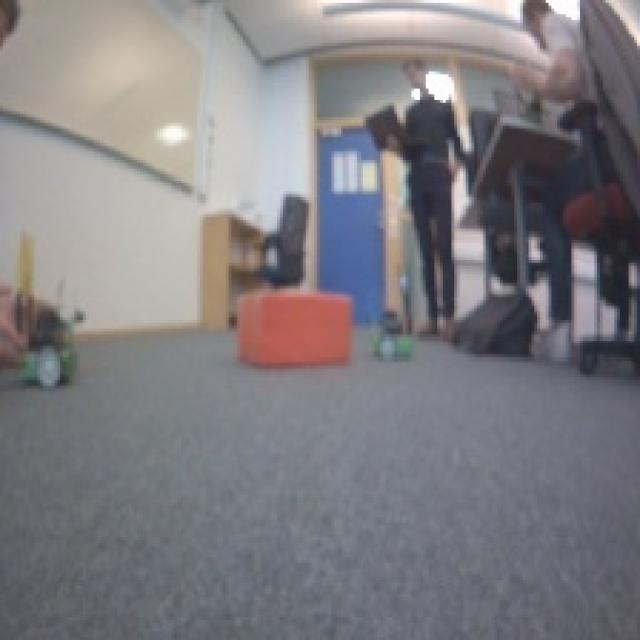robot: (7, 302, 81, 384), (368, 309, 418, 362)
target: (234, 283, 354, 368)
